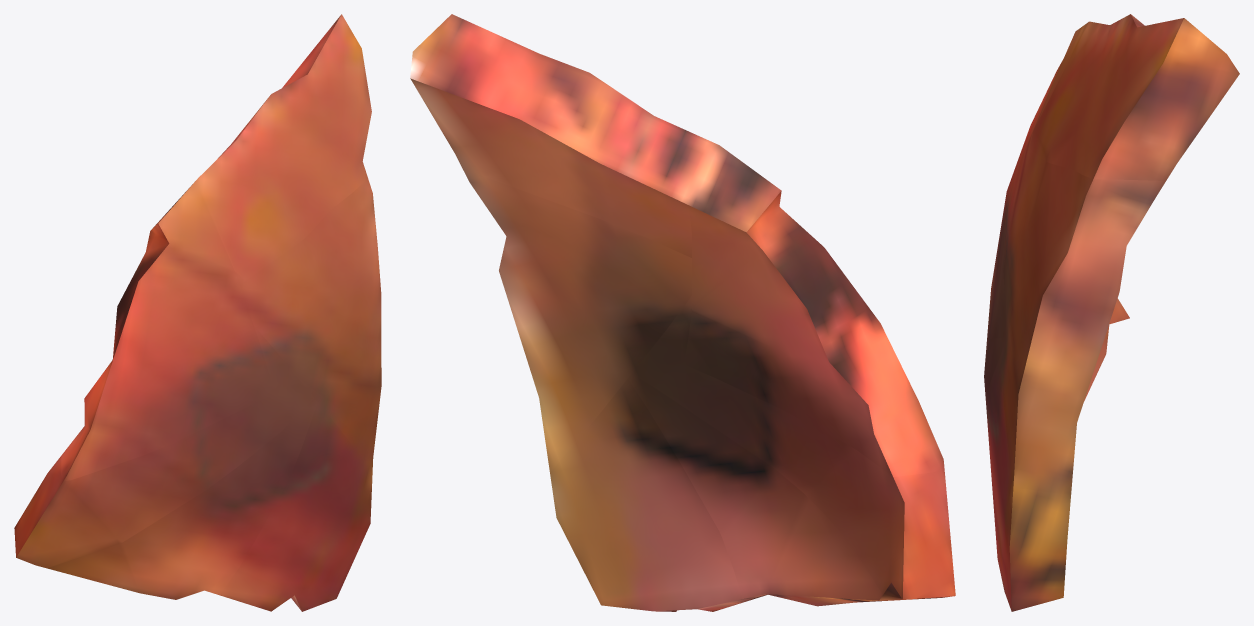
Rendered from Ceramic009.gltf.
3 views of the same model, side by side, from view 1: azimuth 30°, elevation 25°; view 2: azimuth 150°, elevation 25°; view 3: azimuth 270°, elevation 25° (orthographic). The views are drawn at different scales.
Visible parts, largest first — view 1: Ceramic009_001, Ceramic009, Ceramic009_002, Ceramic009_004, Ceramic009_003, Ceramic009_005; view 2: Ceramic009_001, Ceramic009, Ceramic009_002, Ceramic009_005, Ceramic009_004, Ceramic009_003; view 3: Ceramic009_002, Ceramic009, Ceramic009_005, Ceramic009_001, Ceramic009_004, Ceramic009_003.
Part boxes in pixels (x1,y1,x2,y2): Ceramic009_001: (61,181,274,481); Ceramic009: (196,14,371,284); Ceramic009_002: (240,179,381,471); Ceramic009_004: (14,326,313,568); Ceramic009_003: (47,398,317,599); Ceramic009_005: (220,403,372,611); Ceramic009_001: (684,148,944,476); Ceramic009: (410,14,722,257); Ceramic009_002: (463,169,691,472); Ceramic009_005: (550,379,767,611); Ceramic009_004: (632,295,955,599); Ceramic009_003: (628,374,930,606); Ceramic009_002: (1003,148,1165,495); Ceramic009: (1029,14,1239,180); Ceramic009_005: (986,347,1070,611); Ceramic009_001: (995,22,1087,289); Ceramic009_004: (987,204,1129,345); Ceramic009_003: (984,337,1107,409).
Size of the model in its own units: 0.0758 by 0.0974 by 0.0352.
Materials: 1 (1 with a texture image).
